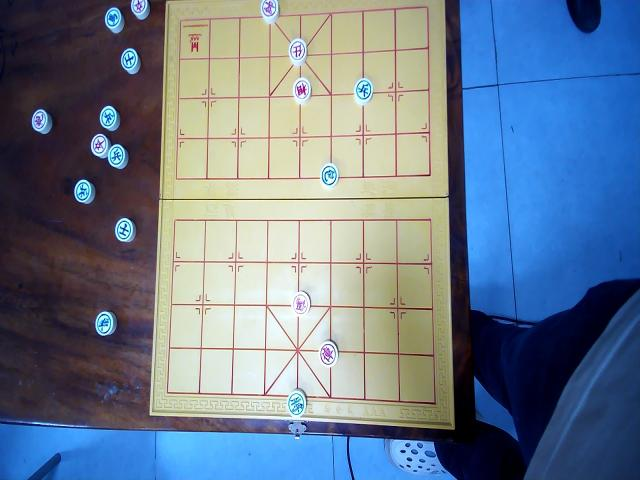piece: (95, 310, 117, 337), (354, 77, 374, 105), (292, 76, 312, 104), (318, 338, 338, 366), (120, 46, 140, 74), (104, 6, 124, 34), (287, 389, 307, 417), (114, 217, 135, 243), (288, 38, 307, 66), (74, 179, 95, 204), (99, 105, 119, 131), (90, 133, 110, 159), (31, 108, 51, 134), (108, 144, 128, 170), (320, 162, 338, 189), (260, 0, 280, 24), (292, 290, 310, 316), (130, 0, 150, 21)
